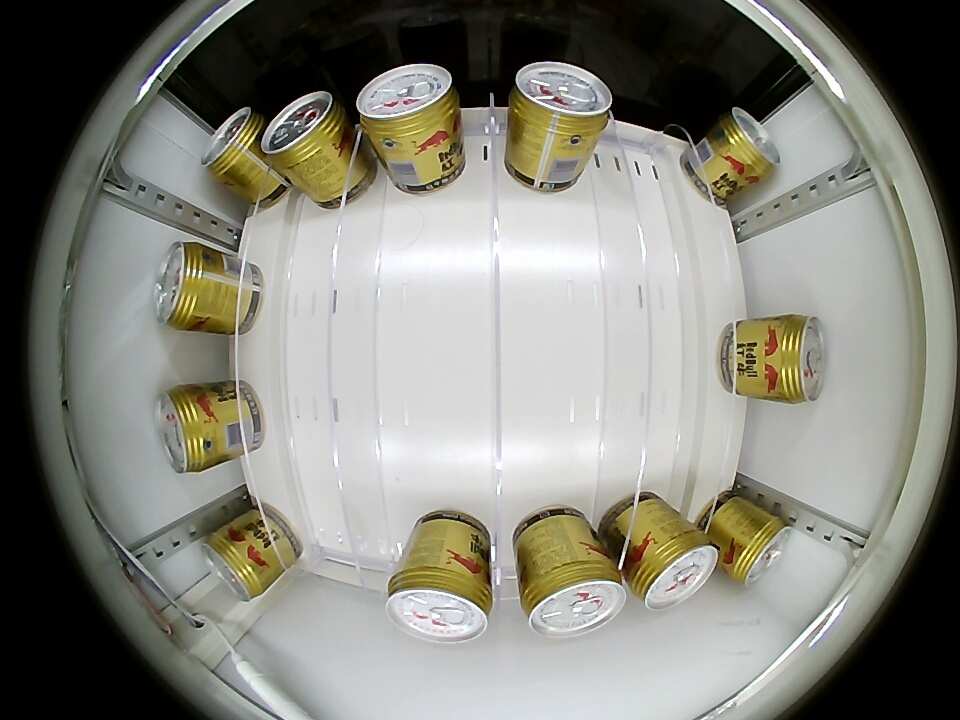hongniu2: (518, 555, 627, 638), (385, 561, 493, 644), (356, 64, 461, 146), (507, 62, 614, 142), (628, 527, 718, 611), (262, 91, 348, 170), (154, 241, 217, 331), (156, 385, 217, 475), (765, 314, 825, 405), (201, 107, 267, 183), (716, 107, 780, 183), (203, 527, 269, 600), (725, 515, 791, 586)
